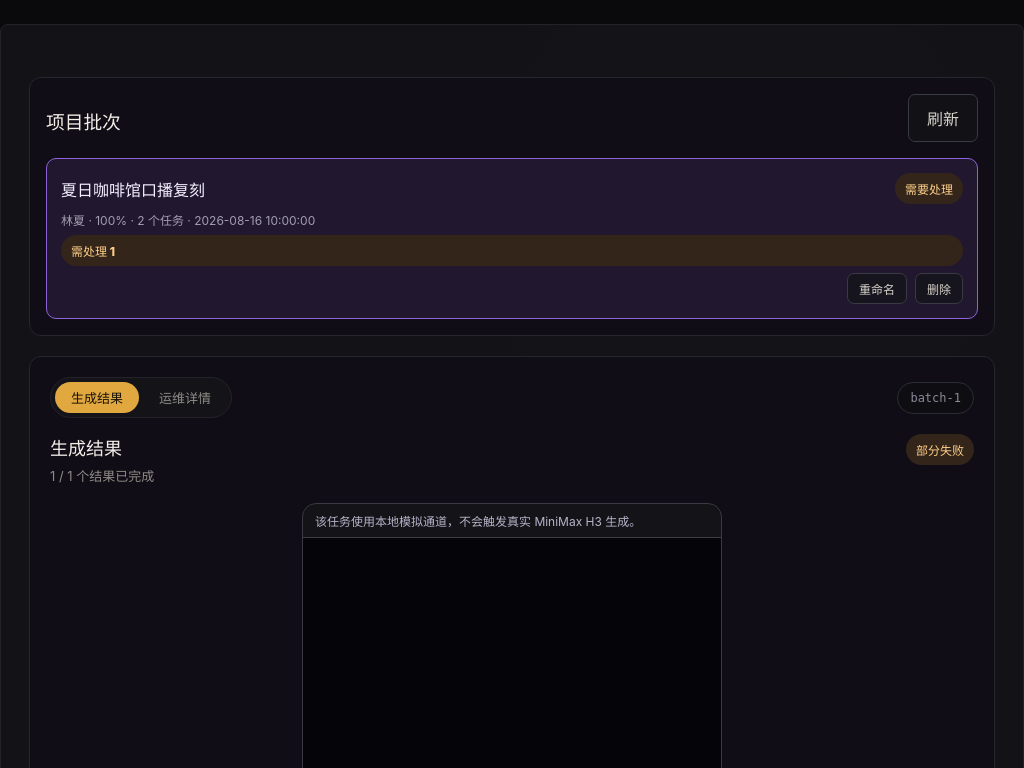
Test: TaskRecordsPanel › keeps superseded quality failures visible as history without active attention
Click the button "运维详情": x=185, y=398 [143,382,227,413]
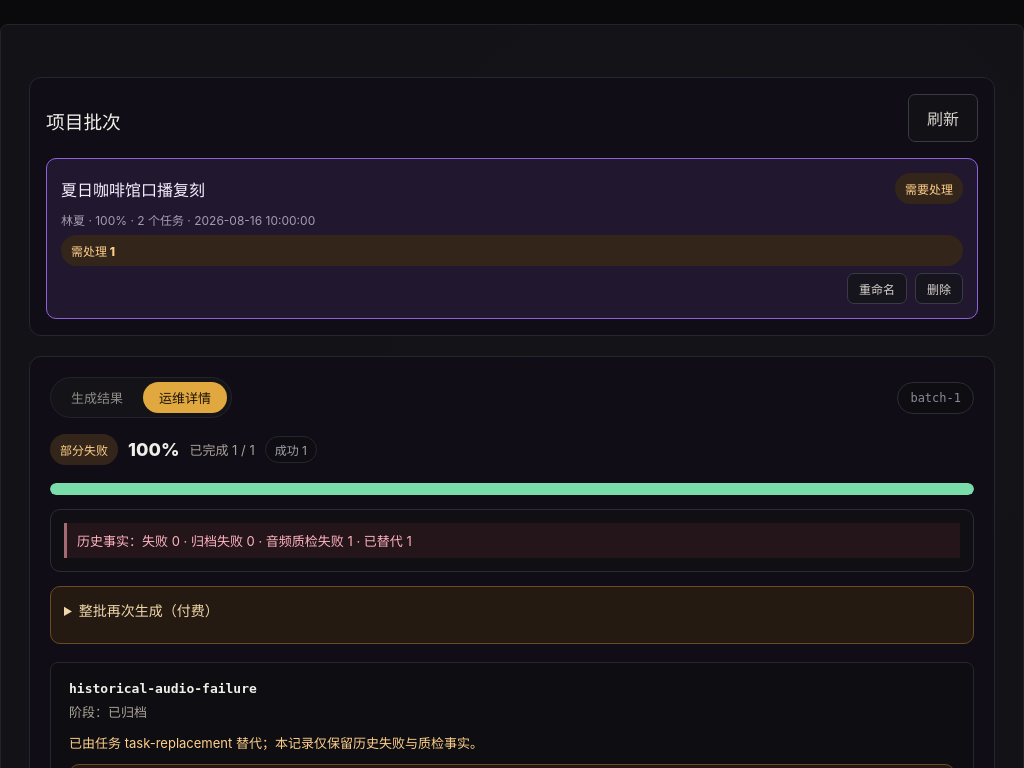
Expected: the text "历史事实：失败 0 · 归档失败 0 · 音频质检失败 1 · 已替代 1" is shown, [64,523,960,558]
Expected: the text "已由任务 task-replacement 替代；本记录仅保留历史失败与质检事实。" is shown, [69,735,483,751]
